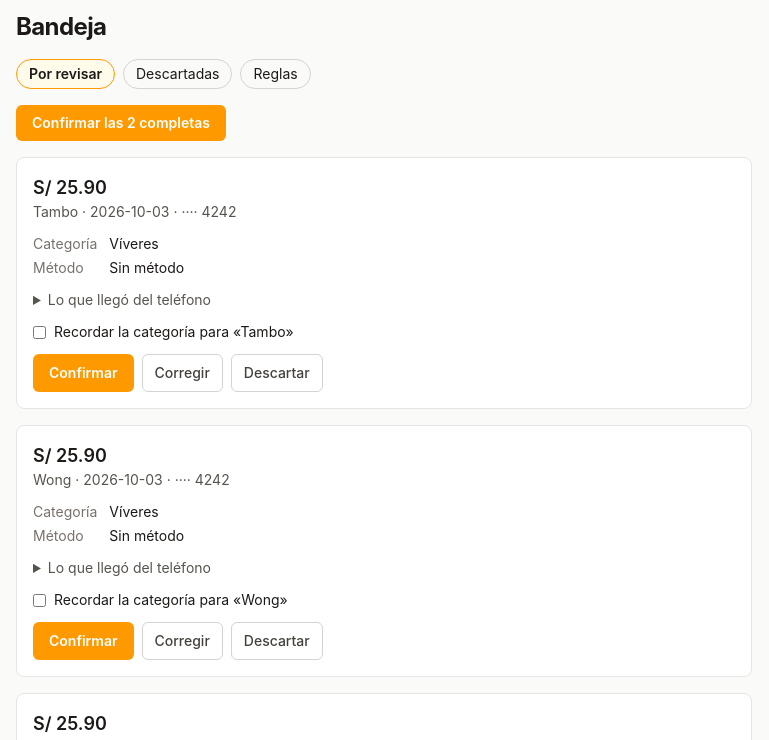
Test: InboxScreen › confirms every complete one at once, and says how many could not
Click the button "Confirmar las 2 completas".
click(121, 123)  # box [16, 105, 226, 141]
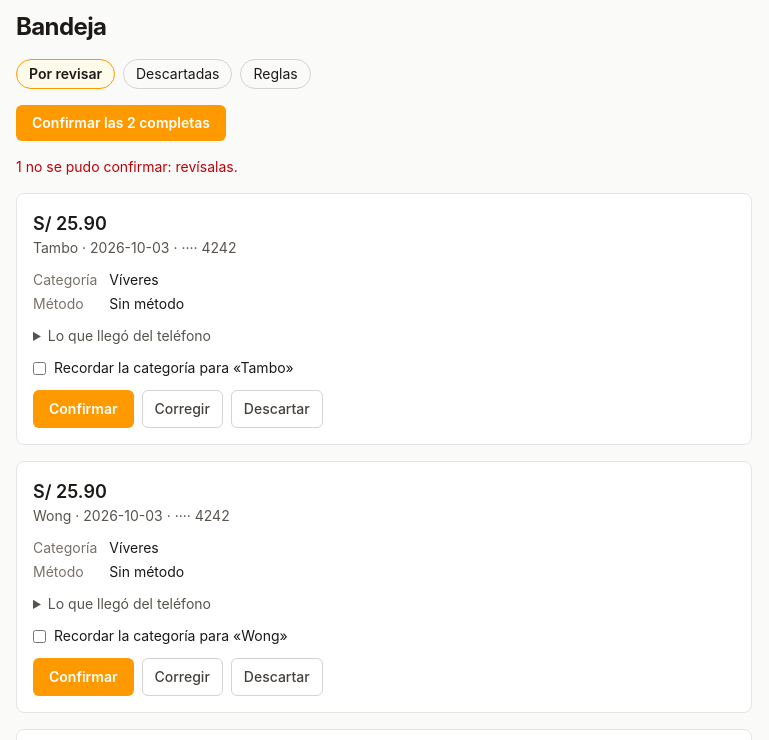
Expected: the text "1 no se pudo confirmar: revísalas." is shown, [16, 158, 238, 175]
